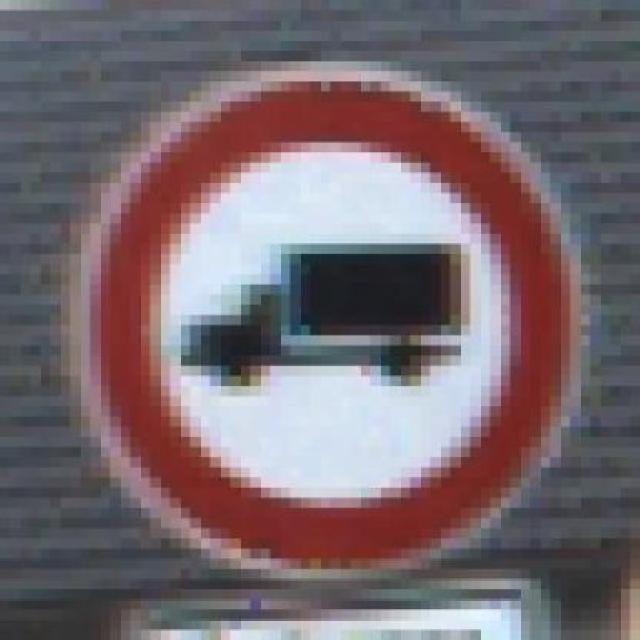Truck traffic is prohibited: (70, 30, 601, 599)
